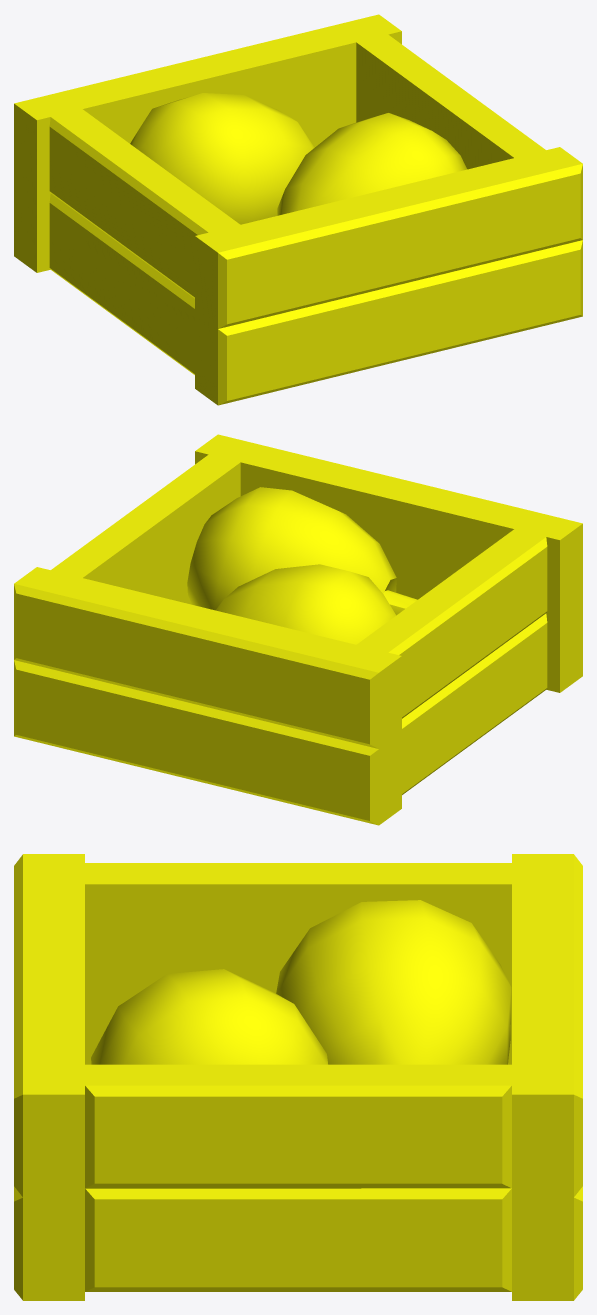
Rendered from crate_ham.gltf.
3 renders of one model, top to bottom at view 1: azimuth 30°, elevation 25°; view 2: azimuth 150°, elevation 25°; view 3: azimuth 270°, elevation 25°, orthographic. The views are drawn at different scales.
Visible parts, largest first — view 1: crate_ham; view 2: crate_ham; view 3: crate_ham.
Boxes of the visible parts, box(x1,y1,x2,y2) form: crate_ham: box(14, 14, 582, 405); crate_ham: box(14, 434, 582, 825); crate_ham: box(14, 854, 582, 1300).
Bounding box in the file's own units: 2 × 0.8937 × 2.
1 material, 1 textured.
